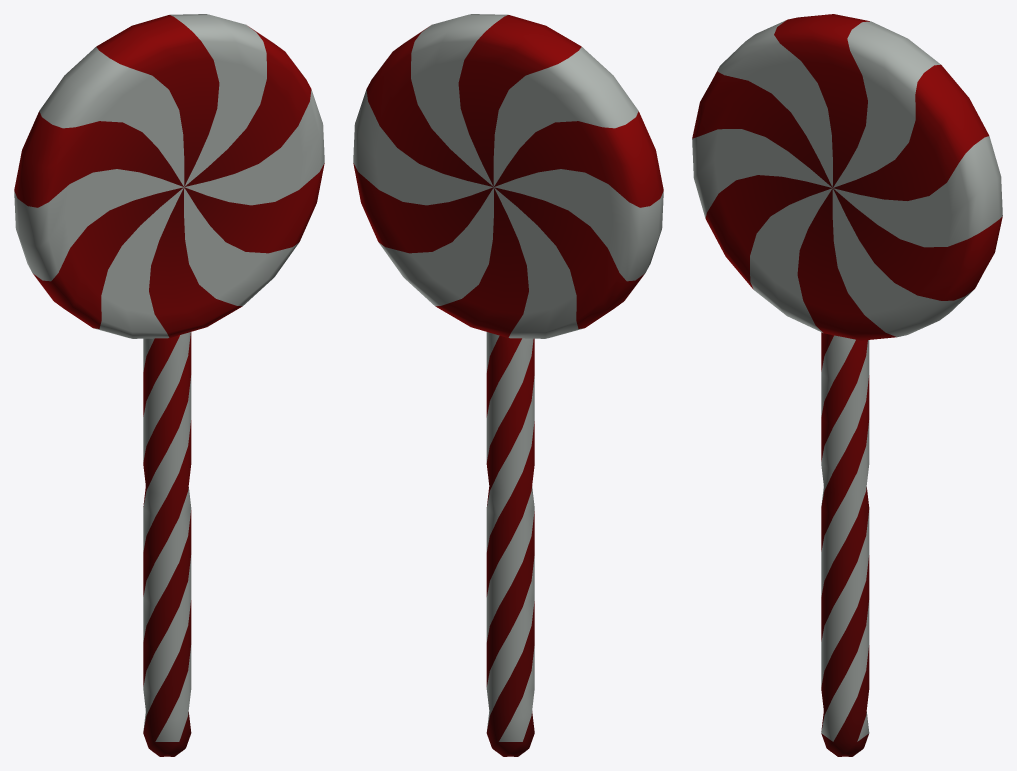
Rendered from Candy_02.fbx.
The picture shows the model from 3 angles, left to right: view 1: azimuth 30°, elevation 25°; view 2: azimuth 150°, elevation 25°; view 3: azimuth 330°, elevation 25°; orthographic projection.
Visible parts, largest first — view 1: Candy_02; view 2: Candy_02; view 3: Candy_02.
Part boxes in pixels (left/top/right/bottom): Candy_02: left=14, top=14, right=324, bottom=756; Candy_02: left=353, top=14, right=663, bottom=756; Candy_02: left=692, top=14, right=1002, bottom=756.
Bounding box in the file's own units: 42.1 × 100 × 7.29.
